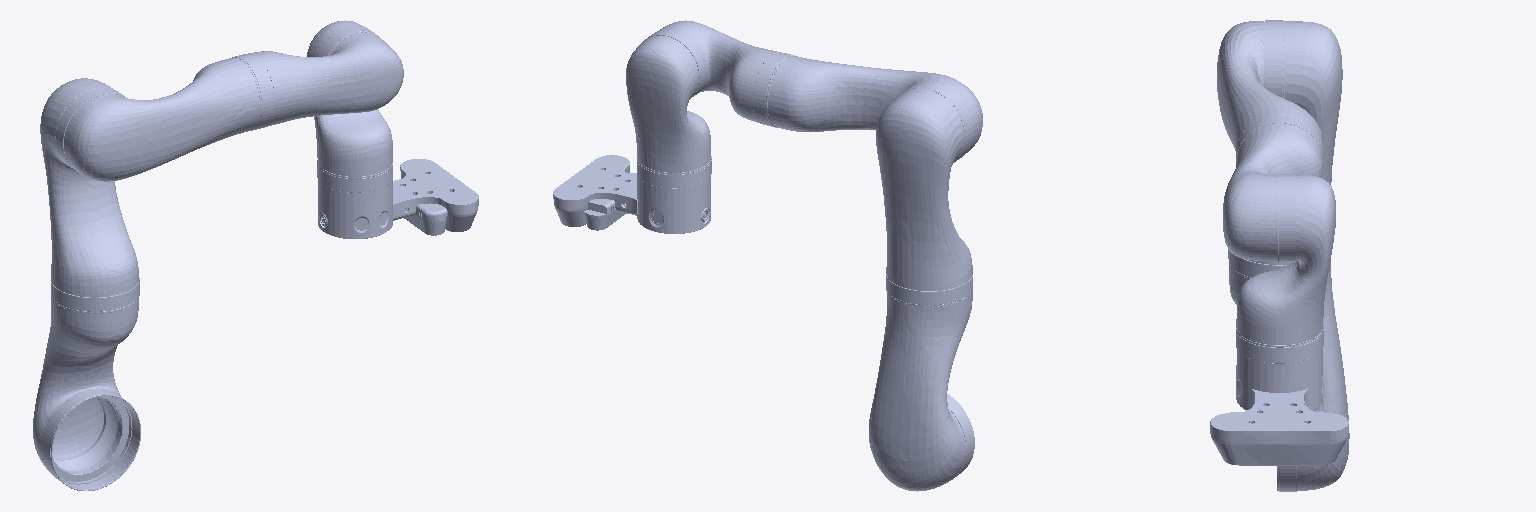
The robot description file, URDF, robot "tcb610v":
<?xml version="1.0" encoding="utf-8"?>
<!-- This URDF was automatically created by SolidWorks to URDF Exporter! Originally created by Stephen Brawner (brawner@gmail.com) 
     Commit Version: 1.6.0-4-g7f85cfe  Build Version: 1.6.7995.38578
     For more information, please see http://wiki.ros.org/sw_urdf_exporter -->
<robot
  name="tcb610v">
  <mujoco>
    <compiler
      meshdir="../meshes/"
      discardvisual="false"
    />
  </mujoco>
  <link
    name="link0">
    <inertial>
      <origin
        xyz="-0.00203916786698491 0.000208461233542914 0.043797046431842"
        rpy="0 0 0" />
      <mass
        value="0.230943297728627" />
      <inertia
        ixx="0.000578857931988587"
        ixy="2.49644295158411E-06"
        ixz="-3.62761994221806E-06"
        iyy="0.000597326060992721"
        iyz="8.87603974516214E-07"
        izz="0.000630268815467399" />
    </inertial>
    <visual>
      <origin
        xyz="0 0 0"
        rpy="0 0 0" />
      <geometry>
        <mesh
          filename="package://tl_description/meshes/tcb610v/link0.STL" />
      </geometry>
      <material
        name="">
        <color
          rgba="0.792156862745098 0.819607843137255 0.933333333333333 1" />
      </material>
    </visual>
    <collision>
      <origin
        xyz="0 0 0"
        rpy="0 0 0" />
      <geometry>
        <mesh
          filename="package://tl_description/meshes/tcb610v/link0.STL" />
      </geometry>
    </collision>
  </link>
  <link
    name="link1">
    <inertial>
      <origin
        xyz="-2.82592835967695E-06 -0.0149440554612562 0.0760738628611228"
        rpy="0 0 0" />
      <mass
        value="0.188795049535535" />
      <inertia
        ixx="0.000644330974536614"
        ixy="5.55804168466913E-08"
        ixz="-5.40921744938158E-08"
        iyy="0.000669839544820847"
        iyz="0.000101917330586459"
        izz="0.000292784373513458" />
    </inertial>
    <visual>
      <origin
        xyz="0 0 0"
        rpy="0 0 0" />
      <geometry>
        <mesh
          filename="package://tl_description/meshes/tcb610v/link1.STL" />
      </geometry>
      <material
        name="">
        <color
          rgba="0.792156862745098 0.819607843137255 0.933333333333333 1" />
      </material>
    </visual>
    <collision>
      <origin
        xyz="0 0 0"
        rpy="0 0 0" />
      <geometry>
        <mesh
          filename="package://tl_description/meshes/tcb610v/link1.STL" />
      </geometry>
    </collision>
  </link>
  <joint
    name="joint1"
    type="revolute">
    <origin
      xyz="0 0 0.12215"
      rpy="0 0 0" />
    <parent
      link="link0" />
    <child
      link="link1" />
    <axis
      xyz="0 0 1" />
    <limit
      lower="-3.1226"
      upper="3.1226"
      effort="0"
      velocity="0" />
  </joint>
  <link
    name="link2">
    <inertial>
      <origin
        xyz="-3.40812440870263E-06 0.1544029743884 -0.0117350175459969"
        rpy="0 0 0" />
      <mass
        value="0.336429912341189" />
      <inertia
        ixx="0.00409550755088751"
        ixy="-2.27619770024749E-07"
        ixz="4.07955463987953E-08"
        iyy="0.000379304080587844"
        iyz="-6.46126897397638E-05"
        izz="0.00414165077881207" />
    </inertial>
    <visual>
      <origin
        xyz="0 0 0"
        rpy="0 0 0" />
      <geometry>
        <mesh
          filename="package://tl_description/meshes/tcb610v/link2.STL" />
      </geometry>
      <material
        name="">
        <color
          rgba="0.792156862745098 0.819607843137255 0.933333333333333 1" />
      </material>
    </visual>
    <collision>
      <origin
        xyz="0 0 0"
        rpy="0 0 0" />
      <geometry>
        <mesh
          filename="package://tl_description/meshes/tcb610v/link2.STL" />
      </geometry>
    </collision>
  </link>
  <joint
    name="joint2"
    type="revolute">
    <origin
      xyz="0 0.00665 0.14085"
      rpy="1.5708 0 0" />
    <parent
      link="link1" />
    <child
      link="link2" />
    <axis
      xyz="0 0 1" />
    <limit
      lower="-2.3562"
      upper="2.3562"
      effort="0"
      velocity="0" />
  </joint>
  <link
    name="link3">
    <inertial>
      <origin
        xyz="-2.75089912160631E-06 -0.0654996455182145 0.0144299061302559"
        rpy="0 0 0" />
      <mass
        value="0.14536827233738" />
      <inertia
        ixx="0.000526467489119294"
        ixy="2.6563186640241E-08"
        ixz="-8.83428632214037E-09"
        iyy="0.000131598103262876"
        iyz="-7.1719300803473E-05"
        izz="0.000544513505478849" />
    </inertial>
    <visual>
      <origin
        xyz="0 0 0"
        rpy="0 0 0" />
      <geometry>
        <mesh
          filename="package://tl_description/meshes/tcb610v/link3.STL" />
      </geometry>
      <material
        name="">
        <color
          rgba="0.792156862745098 0.819607843137255 0.933333333333333 1" />
      </material>
    </visual>
    <collision>
      <origin
        xyz="0 0 0"
        rpy="0 0 0" />
      <geometry>
        <mesh
          filename="package://tl_description/meshes/tcb610v/link3.STL" />
      </geometry>
    </collision>
  </link>
  <joint
    name="joint3"
    type="revolute">
    <origin
      xyz="0 0.3205 0.0118"
      rpy="0 0 1.5708" />
    <parent
      link="link2" />
    <child
      link="link3" />
    <axis
      xyz="0 0 1" />
    <limit
      lower="-0.9948"
      upper="4.1364"
      effort="0"
      velocity="0" />
  </joint>
  <link
    name="link4">
    <inertial>
      <origin
        xyz="-5.11047968676515E-06 0.0131445598571964 0.0626746043899941"
        rpy="0 0 0" />
      <mass
        value="0.0899817886682639" />
      <inertia
        ixx="0.000204808490643572"
        ixy="1.16223792772073E-08"
        ixz="4.07644802071077E-08"
        iyy="0.000207969738028442"
        iyz="-3.60478115174996E-05"
        izz="7.75189800155692E-05" />
    </inertial>
    <visual>
      <origin
        xyz="0 0 0"
        rpy="0 0 0" />
      <geometry>
        <mesh
          filename="package://tl_description/meshes/tcb610v/link4.STL" />
      </geometry>
      <material
        name="">
        <color
          rgba="0.792156862745098 0.819607843137255 0.933333333333333 1" />
      </material>
    </visual>
    <collision>
      <origin
        xyz="0 0 0"
        rpy="0 0 0" />
      <geometry>
        <mesh
          filename="package://tl_description/meshes/tcb610v/link4.STL" />
      </geometry>
    </collision>
  </link>
  <joint
    name="joint4"
    type="revolute">
    <origin
      xyz="0 -0.16615 -0.00515"
      rpy="1.5708 0 0" />
    <parent
      link="link3" />
    <child
      link="link4" />
    <axis
      xyz="0 0 1" />
    <limit
      lower="-3.1226"
      upper="3.1226"
      effort="0"
      velocity="0" />
  </joint>
  <link
    name="link5">
    <inertial>
      <origin
        xyz="-0.0398707312600495 1.29749997301309E-05 0.00873816110128627"
        rpy="0 0 0" />
      <mass
        value="0.0915266768417594" />
      <inertia
        ixx="8.07130413912079E-05"
        ixy="-3.62631341304817E-08"
        ixz="-3.15887030570808E-05"
        iyy="0.000167005961446418"
        iyz="-1.27355290171309E-08"
        izz="0.000170834721676847" />
    </inertial>
    <visual>
      <origin
        xyz="0 0 0"
        rpy="0 0 0" />
      <geometry>
        <mesh
          filename="package://tl_description/meshes/tcb610v/link5.STL" />
      </geometry>
      <material
        name="">
        <color
          rgba="0.792156862745098 0.819607843137255 0.933333333333333 1" />
      </material>
    </visual>
    <collision>
      <origin
        xyz="0 0 0"
        rpy="0 0 0" />
      <geometry>
        <mesh
          filename="package://tl_description/meshes/tcb610v/link5.STL" />
      </geometry>
    </collision>
  </link>
  <joint
    name="joint5"
    type="revolute">
    <origin
      xyz="0 -0.00615 0.11335"
      rpy="1.5708 0 0" />
    <parent
      link="link4" />
    <child
      link="link5" />
    <axis
      xyz="0 0 1" />
    <limit
      lower="-3.8397"
      upper="0.6981"
      effort="0"
      velocity="0" />
  </joint>
  <link
    name="link6">
    <inertial>
      <origin
        xyz="0.045684763723169 -8.93651669606149E-05 -0.0138517347310839"
        rpy="0 0 0" />
      <mass
        value="0.172279546254868" />
      <inertia
        ixx="0.000136996297633005"
        ixy="2.46315670222387E-06"
        ixz="-6.06548292526403E-05"
        iyy="0.000398400902286614"
        iyz="1.44296426723149E-07"
        izz="0.000453491798695697" />
    </inertial>
    <visual>
      <origin
        xyz="0 0 0"
        rpy="0 0 0" />
      <geometry>
        <mesh
          filename="package://tl_description/meshes/tcb610v/link6.STL" />
      </geometry>
      <material
        name="">
        <color
          rgba="0.792156862745098 0.819607843137255 0.933333333333333 1" />
      </material>
    </visual>
    <collision>
      <origin
        xyz="0 0 0"
        rpy="0 0 0" />
      <geometry>
        <mesh
          filename="package://tl_description/meshes/tcb610v/link6.STL" />
      </geometry>
    </collision>
  </link>
  <joint
    name="joint6"
    type="revolute">
    <origin
      xyz="-0.1615 0 -0.006025"
      rpy="-1.5708 -0.0013814 1.5708" />
    <parent
      link="link5" />
    <child
      link="link6" />
    <axis
      xyz="0 0 1" />
    <limit
      lower="-3.1226"
      upper="3.1226"
      effort="0"
      velocity="0" />
  </joint>
  <link
    name="camera_link">
    <inertial>
      <origin
        xyz="0.00587064733920445 -0.00117311942449962 -0.0124843774759016"
        rpy="0 0 0" />
      <mass
        value="0.047170019773282" />
      <inertia
        ixx="2.87281832010184E-05"
        ixy="-4.2081763607736E-07"
        ixz="4.33349071989386E-09"
        iyy="4.39204771933094E-06"
        iyz="-5.78220349074215E-10"
        izz="2.89731881695642E-05" />
    </inertial>
    <visual>
      <origin
        xyz="0 0 0"
        rpy="0 0 0" />
      <geometry>
        <mesh
          filename="package://tl_description/meshes/tcb610v/camera_link.STL" />
      </geometry>
      <material
        name="">
        <color
          rgba="0.792156862745098 0.819607843137255 0.933333333333333 1" />
      </material>
    </visual>
    <collision>
      <origin
        xyz="0 0 0"
        rpy="0 0 0" />
      <geometry>
        <mesh
          filename="package://tl_description/meshes/tcb610v/camera_link.STL" />
      </geometry>
    </collision>
  </link>
  <joint
    name="camera_joint"
    type="fixed">
    <origin
      xyz="0.078 0.00023277 -0.0087187"
      rpy="3.1402 -1.5708 0" />
    <parent
      link="link6" />
    <child
      link="camera_link" />
    <axis
      xyz="0 0 0" />
  </joint>
</robot>

--- What the picture shows (computed from the rendered views, not written in the file) ---
Views: 3 orthographic renders of the robot side by side, from view 1: azimuth 30°, elevation 25°; view 2: azimuth 150°, elevation 25°; view 3: azimuth 270°, elevation 25°.
Model tcb610v with 8 links and 7 joints (6 revolute, 1 fixed), rooted at link0, posed every joint at zero.
Links seen in each view (by area): view 1: link2, link3, link4, link6, link5, camera_link; view 2: link2, link3, link5, link6, link4, camera_link; view 3: link6, link5, link2, link4, link3.
Boxes of the visible links, <box> form: link2: <box>33,78,140,490</box>; link3: <box>55,57,259,181</box>; link4: <box>232,32,403,130</box>; link6: <box>317,159,478,238</box>; link5: <box>307,20,392,176</box>; camera_link: <box>393,179,447,235</box>; link2: <box>869,88,974,491</box>; link3: <box>768,56,982,162</box>; link5: <box>626,29,710,172</box>; link6: <box>553,155,711,233</box>; link4: <box>660,20,794,127</box>; camera_link: <box>584,173,636,230</box>; link6: <box>1210,327,1348,465</box>; link5: <box>1236,174,1335,344</box>; link2: <box>1228,21,1349,491</box>; link4: <box>1223,114,1323,260</box>; link3: <box>1217,20,1322,150</box>.
Bounding box of the posed robot: 0.4359 × 0.1124 × 0.4103 m (x, y, z).
Meshes: 8 distinct files referenced, 6 mesh visuals loaded (6 binary STL); not drawn: 2 (reference not matched to a file when rendering).
